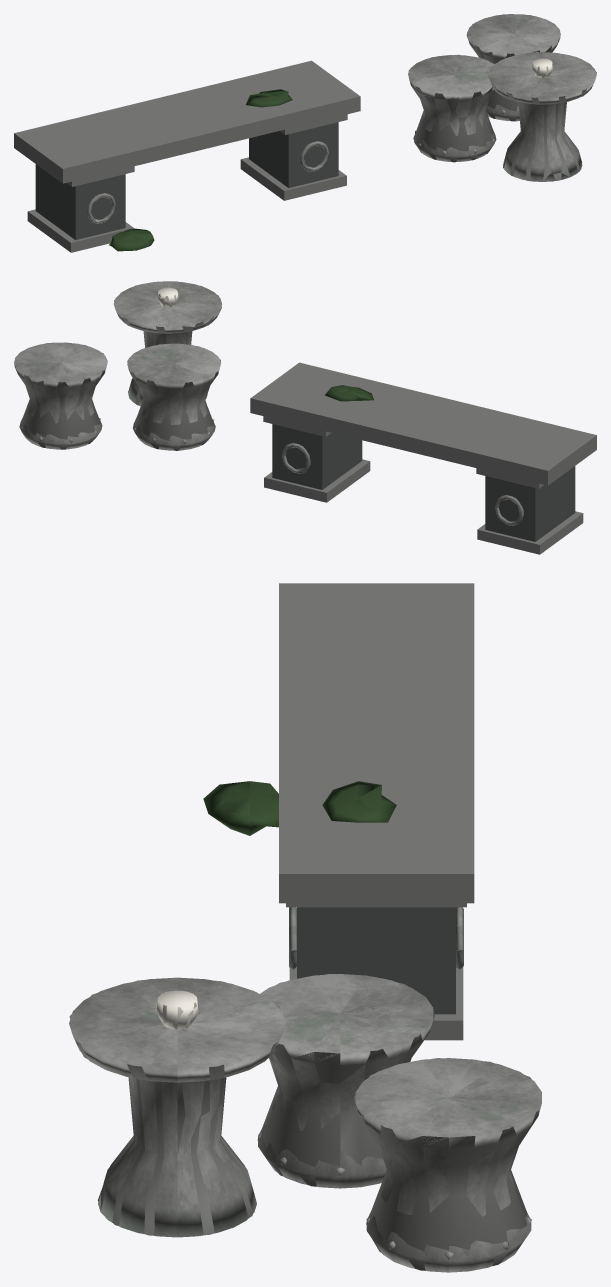
Rendered from prop_bench_stone.gltf.
The picture shows the model from 3 angles, top to bottom: view 1: azimuth 30°, elevation 25°; view 2: azimuth 150°, elevation 25°; view 3: azimuth 270°, elevation 25°; orthographic projection. The views are drawn at different scales.
Parts seen in each view (by area): view 1: Far, Near; view 2: Far, Near; view 3: Far, Near.
Part boxes in pixels (left/top/right/bottom): Far: left=14, top=14, right=596, bottom=252; Near: left=87, top=14, right=596, bottom=242; Far: left=14, top=281, right=596, bottom=554; Near: left=14, top=281, right=523, bottom=525; Far: left=69, top=583, right=539, bottom=1270; Near: left=69, top=781, right=541, bottom=1272.
Bounding box in the file's own units: 3.41 × 0.6251 × 1.31.
5 materials, 2 textured.
